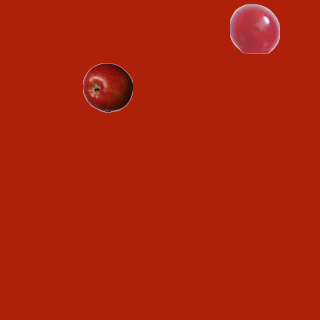Apple Braeburn: (82, 62, 132, 112)
Redcurrant: (229, 3, 279, 53)
